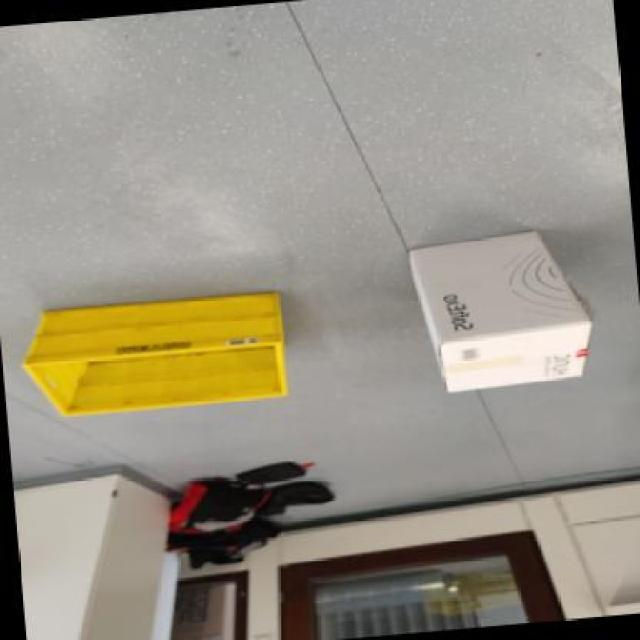box: (392, 196, 614, 419), (6, 270, 319, 427)
